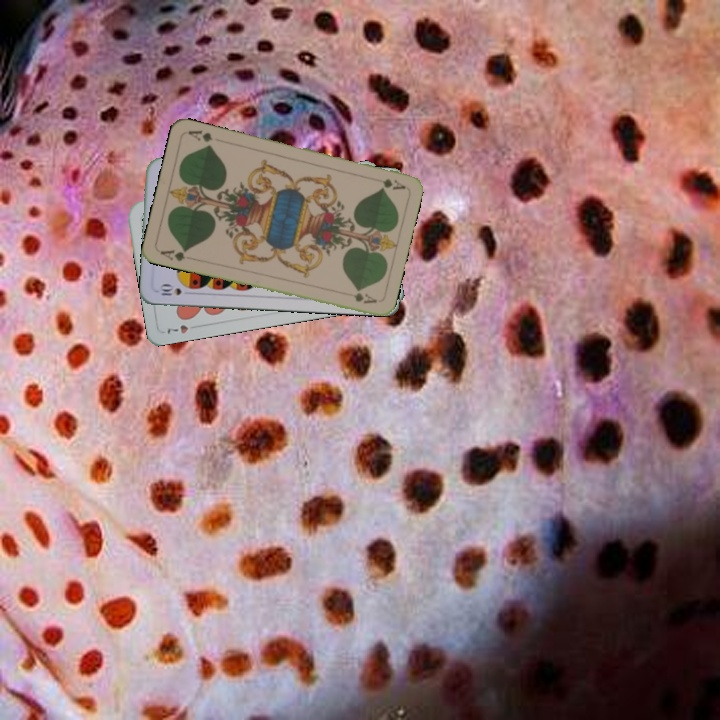GA: (368, 173, 408, 193), (156, 245, 189, 264)
H7: (163, 321, 201, 337)
S10: (156, 282, 195, 298)
